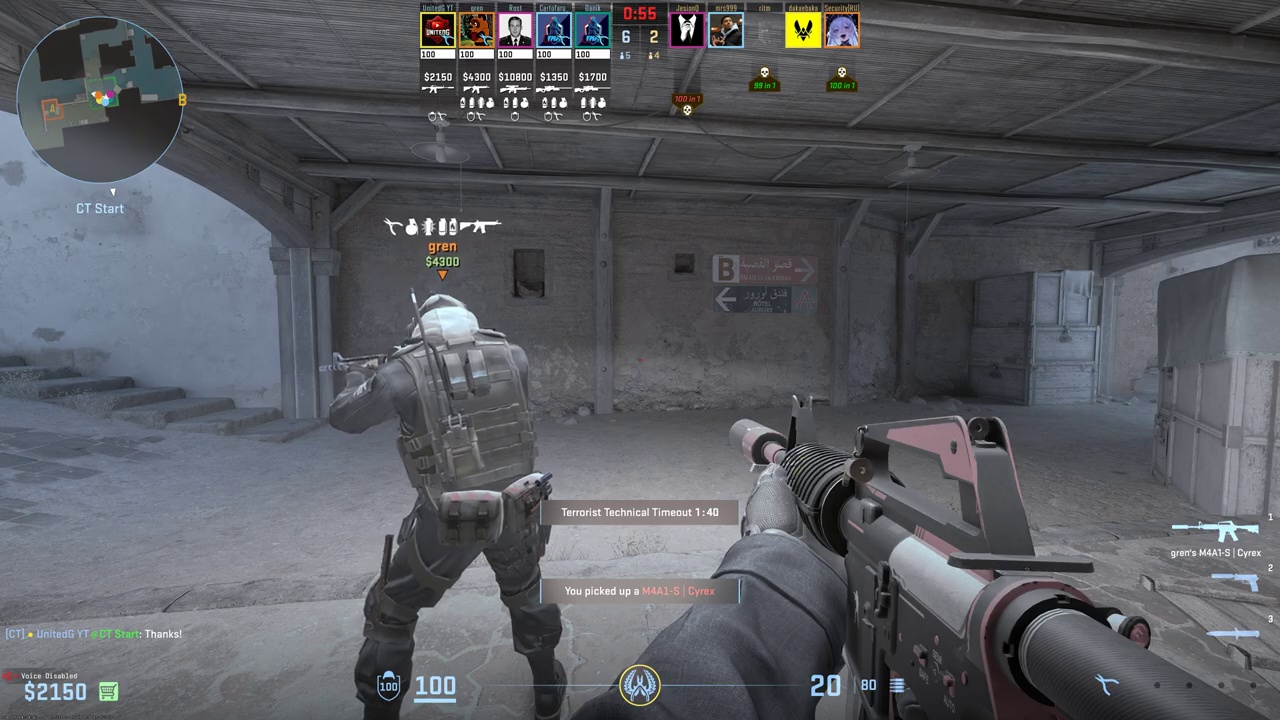CT: (364, 292, 554, 703)
